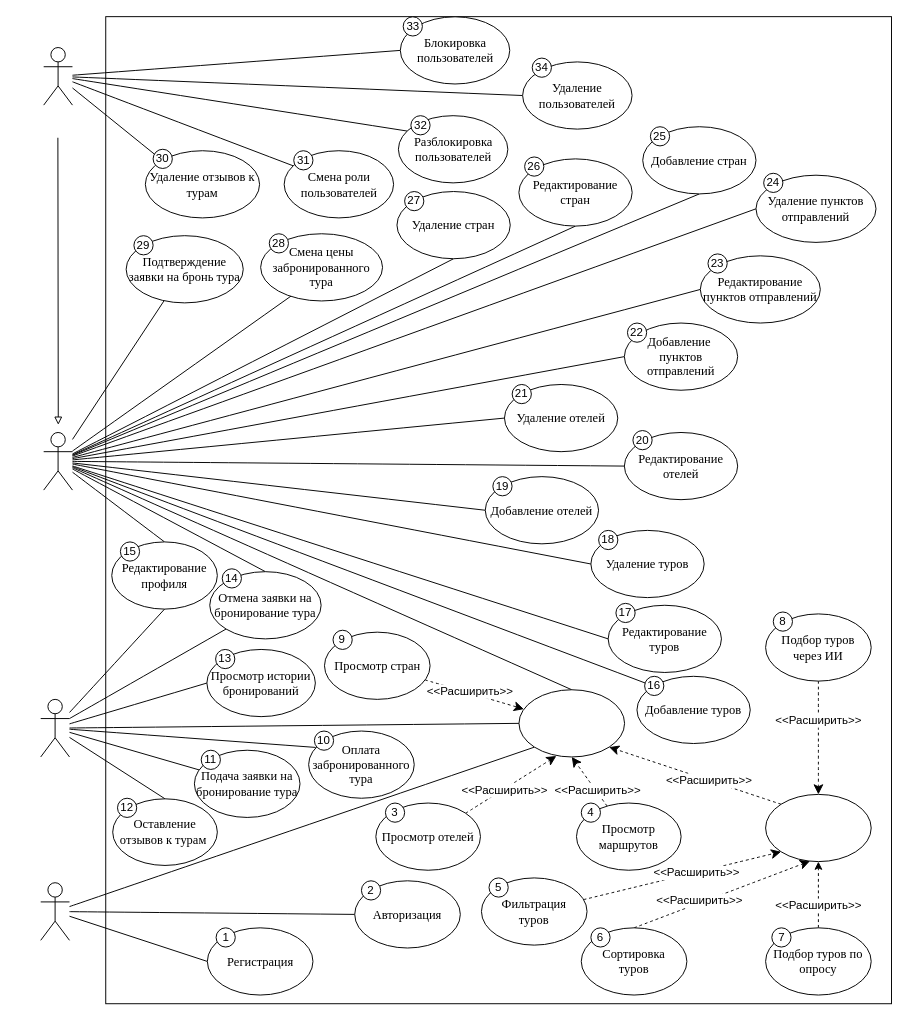
Some shapes in this 909 by 1021 pixel diagram are drawn without their labels. Each missing label, with the centre of its shape:
"Администратор" belongs at point (57, 76).
"Гость" belongs at point (55, 911).
"Менеджер" belongs at point (57, 461).
"Подбор туров" belongs at point (818, 827).
"Пользователь" belongs at point (55, 727).
"Просмотр туров" belongs at point (571, 723).
